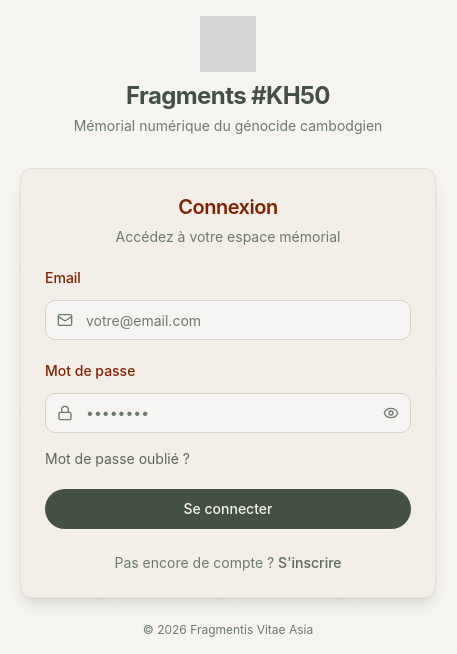
Auth page › switching to forgot-password mode › shows the 'Mot de passe oublié' title
Click the button "Mot de passe oublié ?".
click(118, 459)  # box [45, 449, 190, 469]
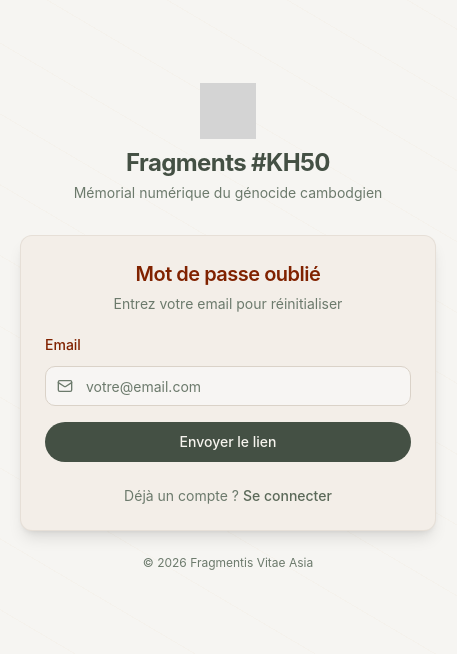
Result: the text "Mot de passe oublié" is shown at [136, 262, 320, 286]
